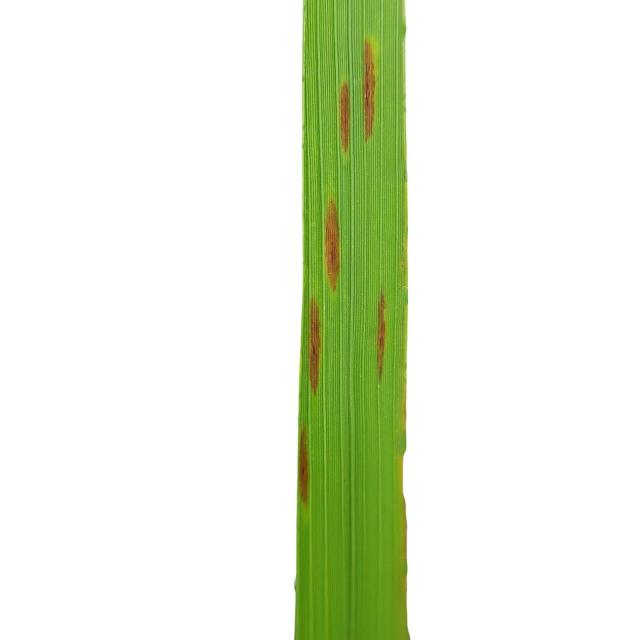Narrow brown: (252, 0, 480, 640)
